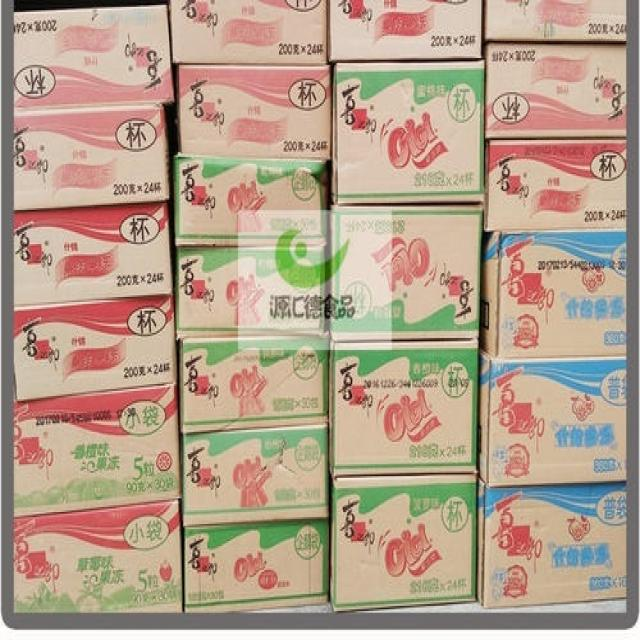box: (13, 382, 183, 517), (332, 58, 486, 205), (477, 346, 630, 490), (328, 474, 480, 613), (329, 205, 484, 341), (329, 338, 479, 478), (479, 474, 628, 609), (14, 500, 182, 613), (479, 230, 628, 357), (13, 294, 178, 403), (12, 198, 174, 307), (12, 102, 172, 210), (14, 3, 173, 108), (164, 65, 333, 160), (179, 423, 332, 527), (177, 333, 330, 437), (170, 154, 329, 249), (484, 43, 628, 142), (179, 519, 329, 614), (177, 246, 329, 336), (484, 138, 628, 232), (168, 2, 329, 65), (329, 0, 484, 61), (483, 0, 626, 43)
